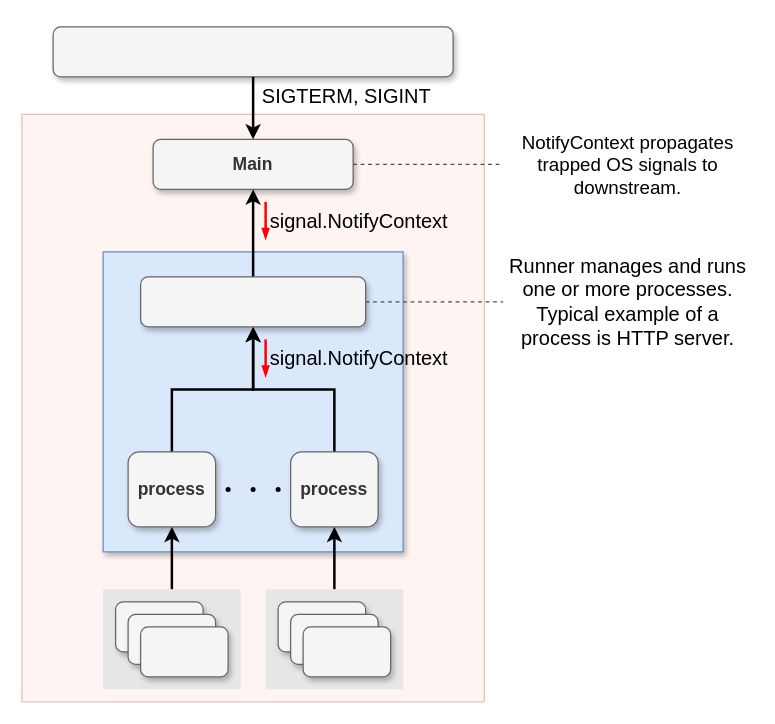
The diagram is 775 pixels wide and 724 high, and some of its shapes have lost their labels. The centre of each missing label's shape, as x and y in pixels:
"Operating System" goes at point 254,53.
"Runner" goes at point 253,303.
